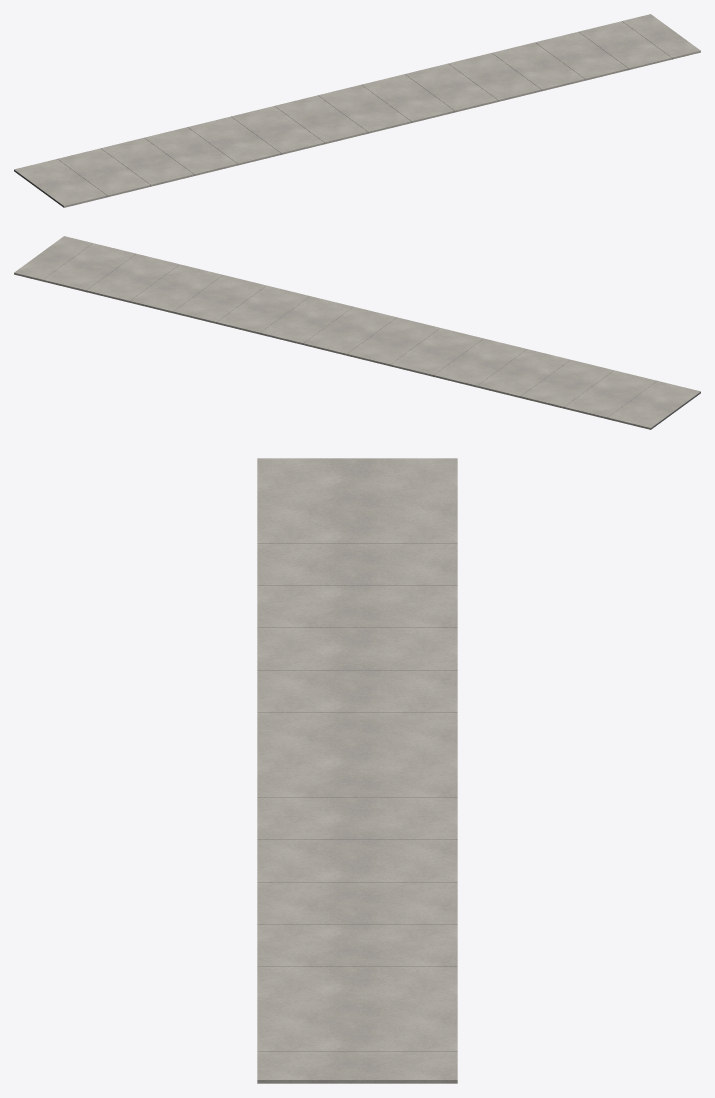
The model's file is sidewalk.glb.
3 renders of one model, top to bottom at view 1: azimuth 30°, elevation 25°; view 2: azimuth 150°, elevation 25°; view 3: azimuth 270°, elevation 25°, orthographic. The views are drawn at different scales.
Visible parts, largest first — view 1: sidewalk_concrete; view 2: sidewalk_concrete; view 3: sidewalk_concrete.
Part boxes in pixels (bbox=[...]): sidewalk_concrete: bbox=[14, 14, 700, 207]; sidewalk_concrete: bbox=[14, 236, 700, 429]; sidewalk_concrete: bbox=[257, 458, 457, 1083].
Bounding box in the file's own units: 22 × 0.06 × 3.
Materials: 2 (1 with a texture image).
